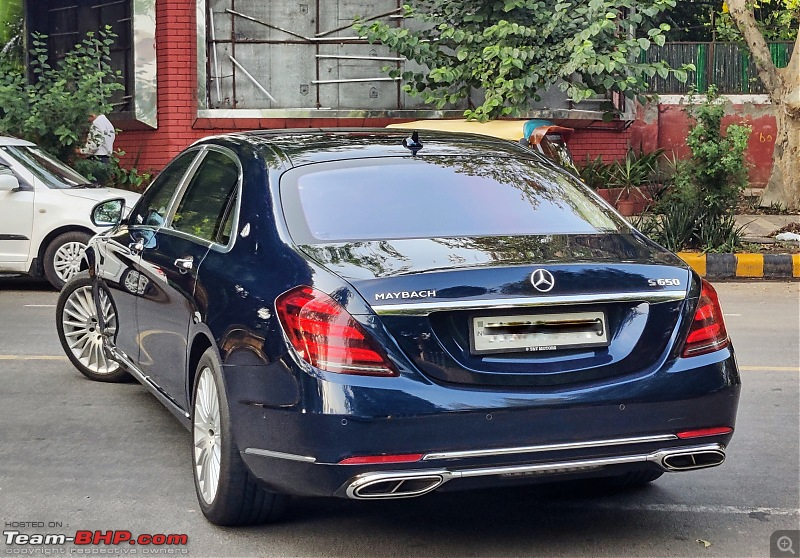car: (54, 126, 744, 530)
